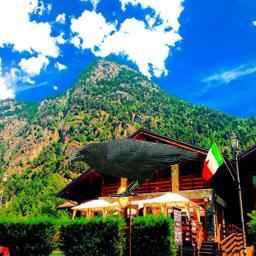Crow: (67, 138, 198, 199)
